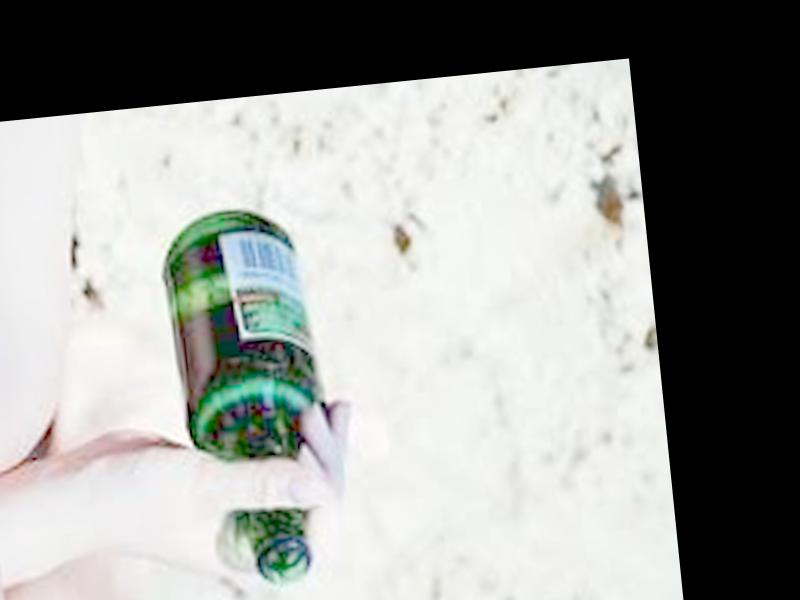Beer: (155, 202, 340, 596)
